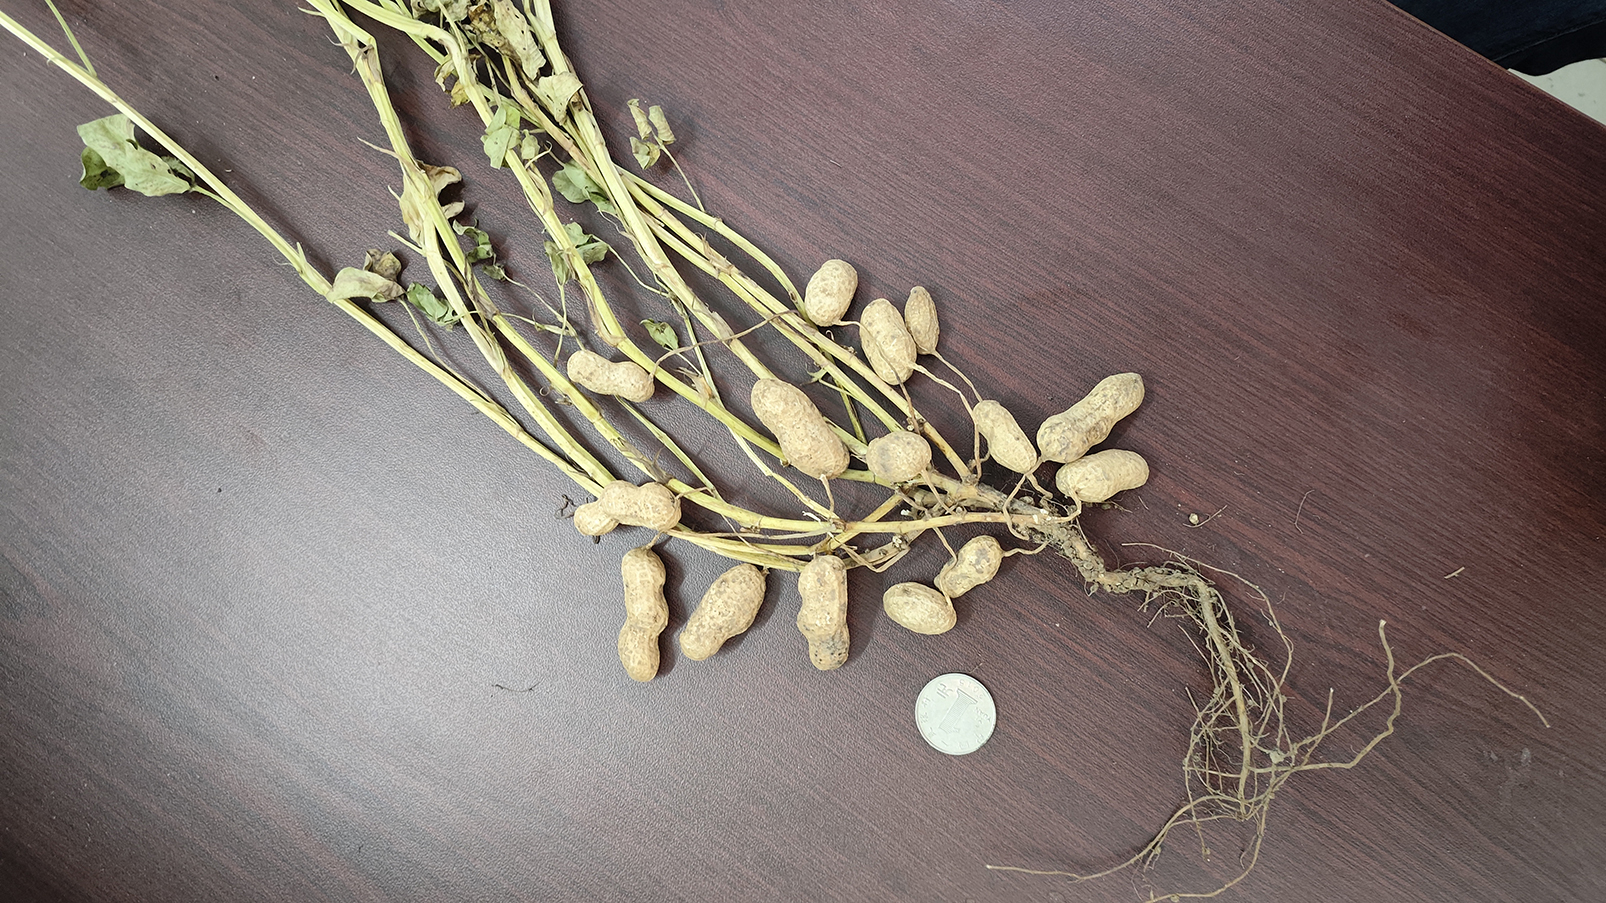h: (1037, 370, 1146, 463), (752, 377, 848, 479), (679, 565, 765, 662), (618, 546, 670, 682), (794, 556, 852, 671), (572, 479, 681, 533), (1056, 450, 1150, 504), (971, 398, 1037, 471), (565, 351, 654, 404), (859, 298, 916, 381), (933, 533, 1003, 595), (884, 583, 957, 636), (802, 259, 858, 327), (868, 431, 932, 482), (904, 287, 939, 357)
